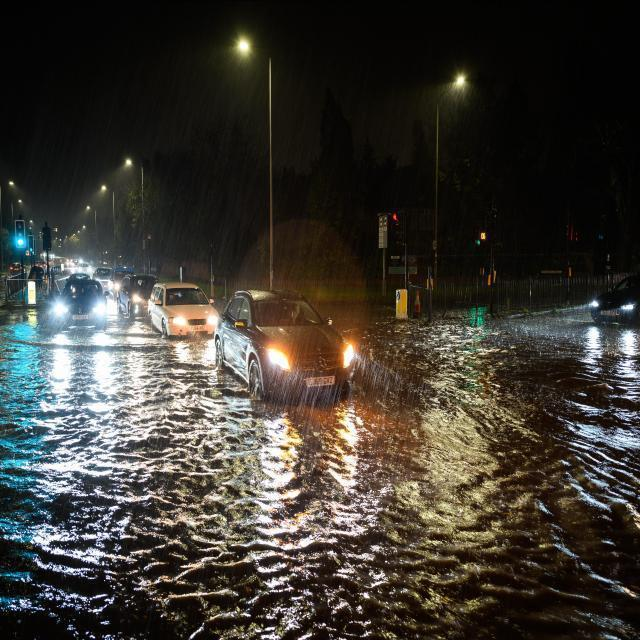water: (0, 316, 639, 638)
